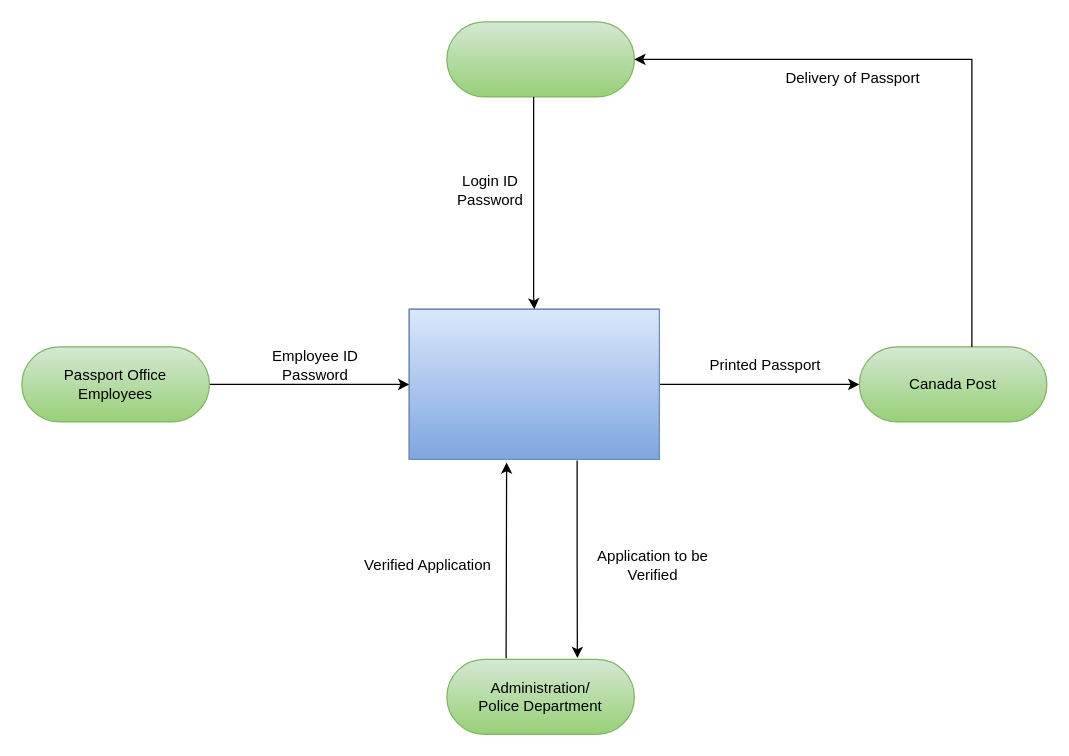
This 1069x756 diagram has some shape labels left out. The box of each missing label's shape, as (x1, y1, x2, y2) in pixels:
Customer: (446, 21, 634, 97)
PASSPORT AUTOMATION PROCESS: (408, 308, 659, 459)
